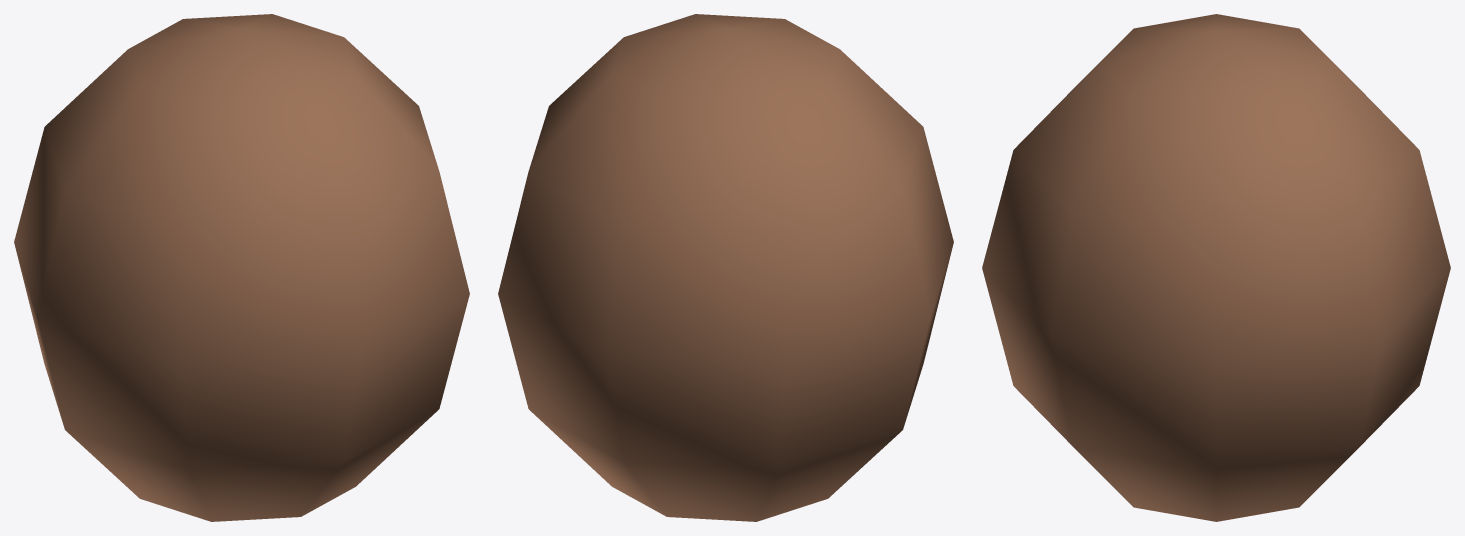
3 renders of one model, left to right at view 1: azimuth 30°, elevation 25°; view 2: azimuth 150°, elevation 25°; view 3: azimuth 270°, elevation 25°, orthographic.
Visible parts, largest first — view 1: 禾禾; view 2: 禾禾; view 3: 禾禾.
Part boxes in pixels (x1=…): 禾禾: x1=14, y1=14, x2=469, y2=521; 禾禾: x1=498, y1=14, x2=953, y2=521; 禾禾: x1=982, y1=14, x2=1450, y2=521.
Size of the model in its own units: 1.44 by 1.6 by 1.44.
1 material, 1 textured.
